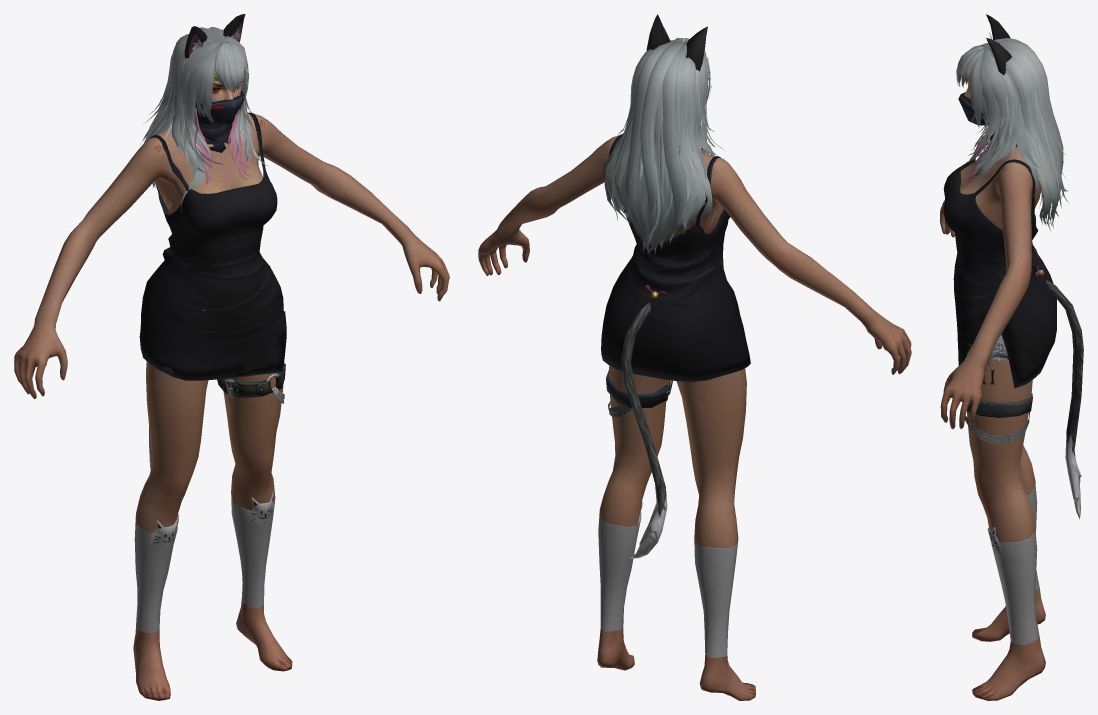
The model's file is barbie.glb.
The picture shows the model from 3 angles, left to right: view 1: azimuth 30°, elevation 25°; view 2: azimuth 150°, elevation 25°; view 3: azimuth 270°, elevation 25°; orthographic projection. The views are drawn at different scales.
Parts seen in each view (by area): view 1: barbie; view 2: barbie; view 3: barbie.
Part boxes in pixels (<box>): barbie: <box>14,14,449,700</box>; barbie: <box>478,14,911,700</box>; barbie: <box>940,14,1083,700</box>.
Size of the model in its own units: 0.6003 by 0.8939 by 0.1818.
9 materials, 9 textured.
